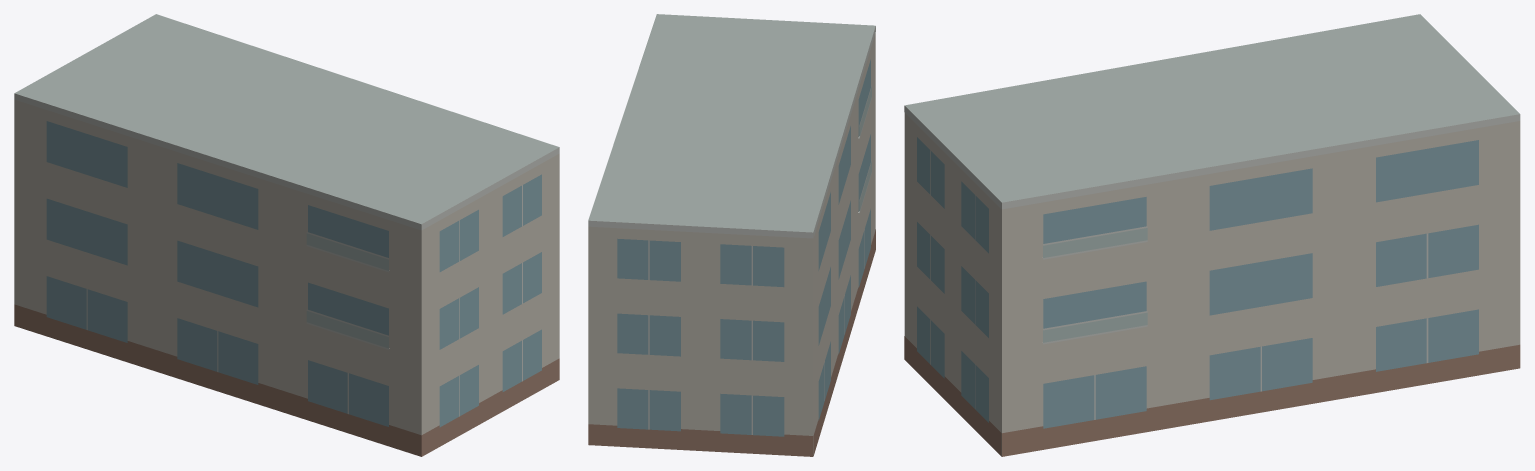
Rendered from survey-upis-32698471.glb.
The picture shows the model from 3 angles, left to right: view 1: azimuth 30°, elevation 25°; view 2: azimuth 150°, elevation 25°; view 3: azimuth 270°, elevation 25°; orthographic projection. The views are drawn at different scales.
Parts seen in each view (by area): view 1: survey-upis-32698471.tmp; view 2: survey-upis-32698471.tmp; view 3: survey-upis-32698471.tmp.
Boxes of the visible parts, x1,y1,x2,y2 form: survey-upis-32698471.tmp: [14, 14, 559, 456]; survey-upis-32698471.tmp: [588, 14, 875, 456]; survey-upis-32698471.tmp: [904, 14, 1520, 456].
Size of the model in its own units: 14.58 by 9.15 by 20.1.
